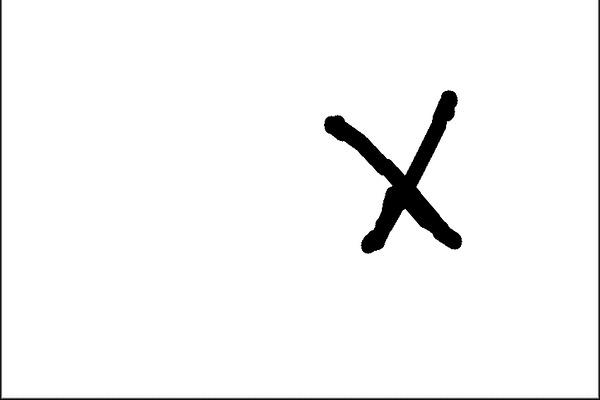X: (286, 81, 508, 277)
